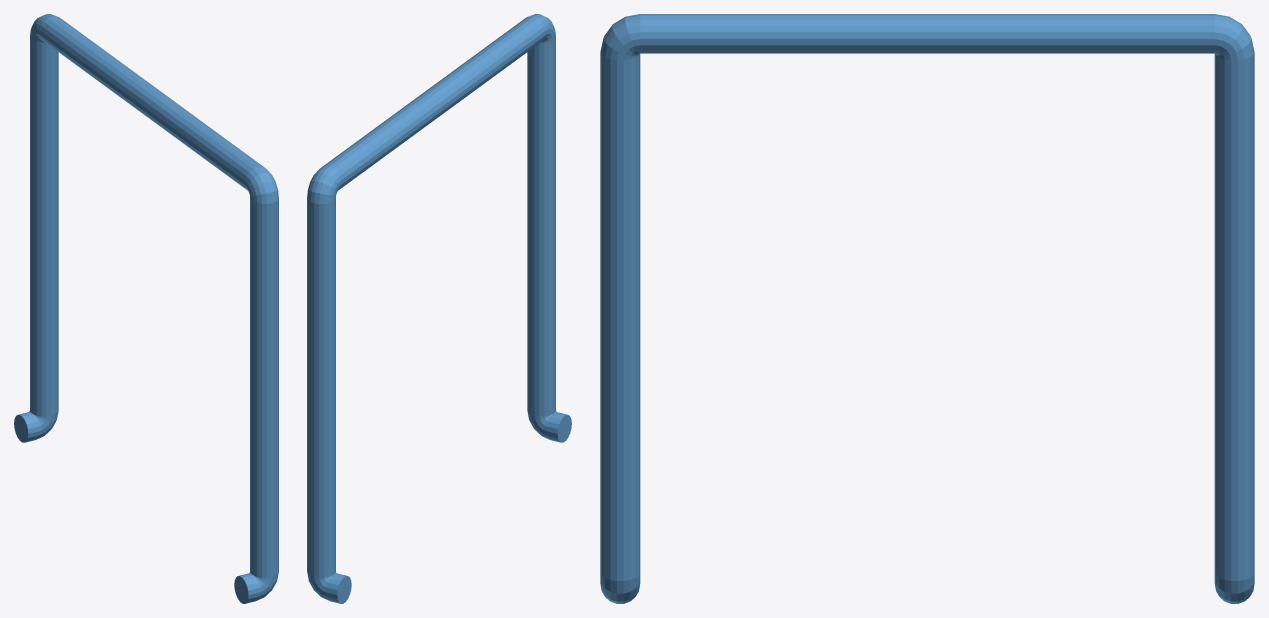
The model's file is Rail_1m_side.fbx.
The picture shows the model from 3 angles, left to right: view 1: azimuth 30°, elevation 25°; view 2: azimuth 150°, elevation 25°; view 3: azimuth 270°, elevation 25°; orthographic projection. The views are drawn at different scales.
Parts seen in each view (by area): view 1: Rail_Platform_side; view 2: Rail_Platform_side; view 3: Rail_Platform_side.
Boxes of the visible parts, left/top/right/bottom form: Rail_Platform_side: left=14, top=14, right=278, bottom=603; Rail_Platform_side: left=307, top=14, right=571, bottom=603; Rail_Platform_side: left=600, top=14, right=1254, bottom=603.
Size of the model in its own units: 8.62 by 98.69 by 98.68.
